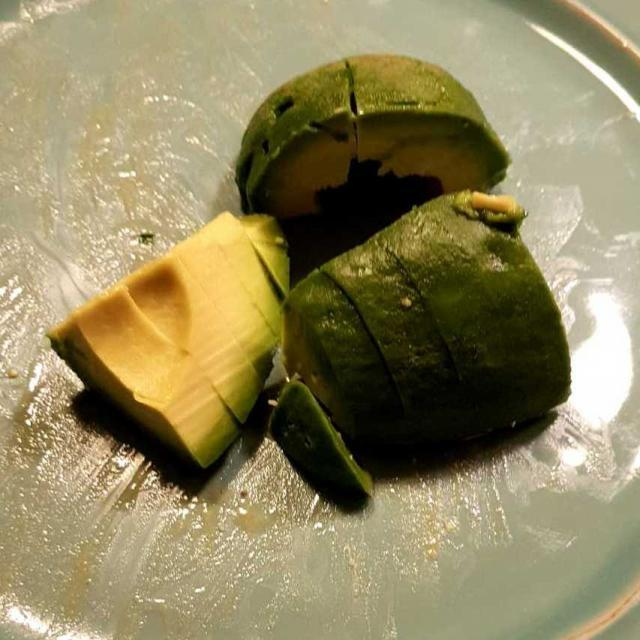avocado: (60, 51, 575, 522)
